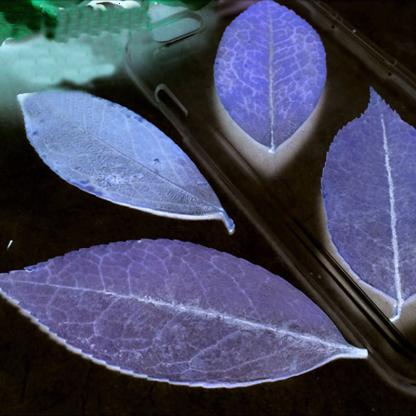blueberry leaf: (1, 237, 349, 393), (13, 85, 236, 236), (319, 87, 415, 310), (212, 1, 332, 159)
